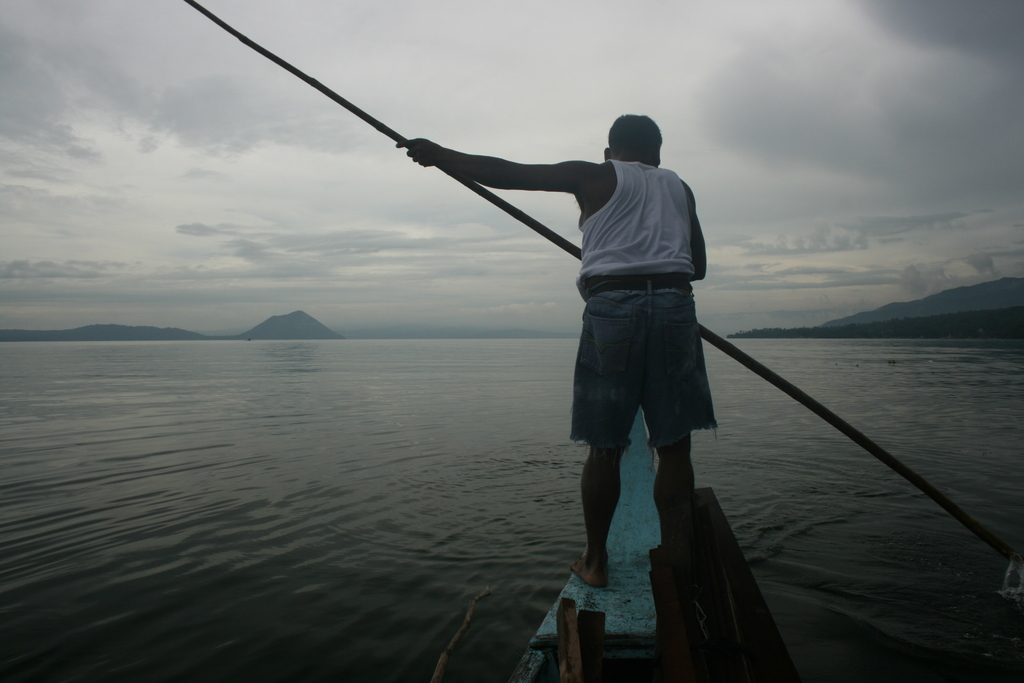Person: (395, 113, 718, 587)
